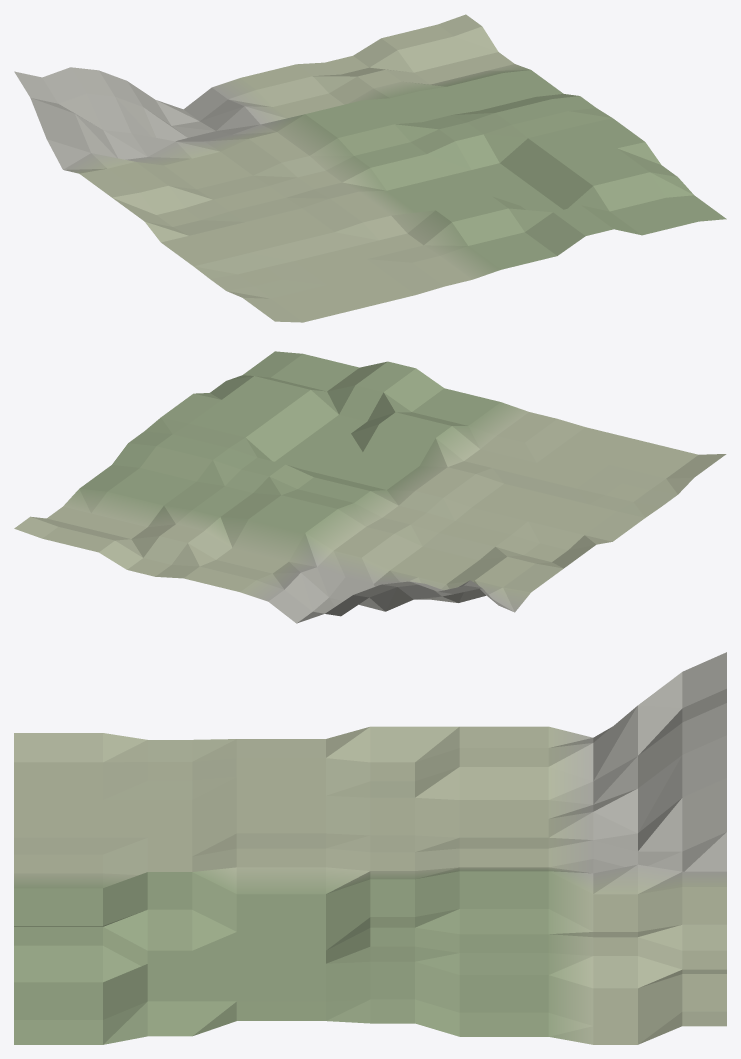
The picture shows the model from 3 angles, top to bottom: view 1: azimuth 30°, elevation 25°; view 2: azimuth 150°, elevation 25°; view 3: azimuth 270°, elevation 25°; orthographic projection. The views are drawn at different scales.
Bounding box in the file's own units: 32 × 5.37 × 32.
